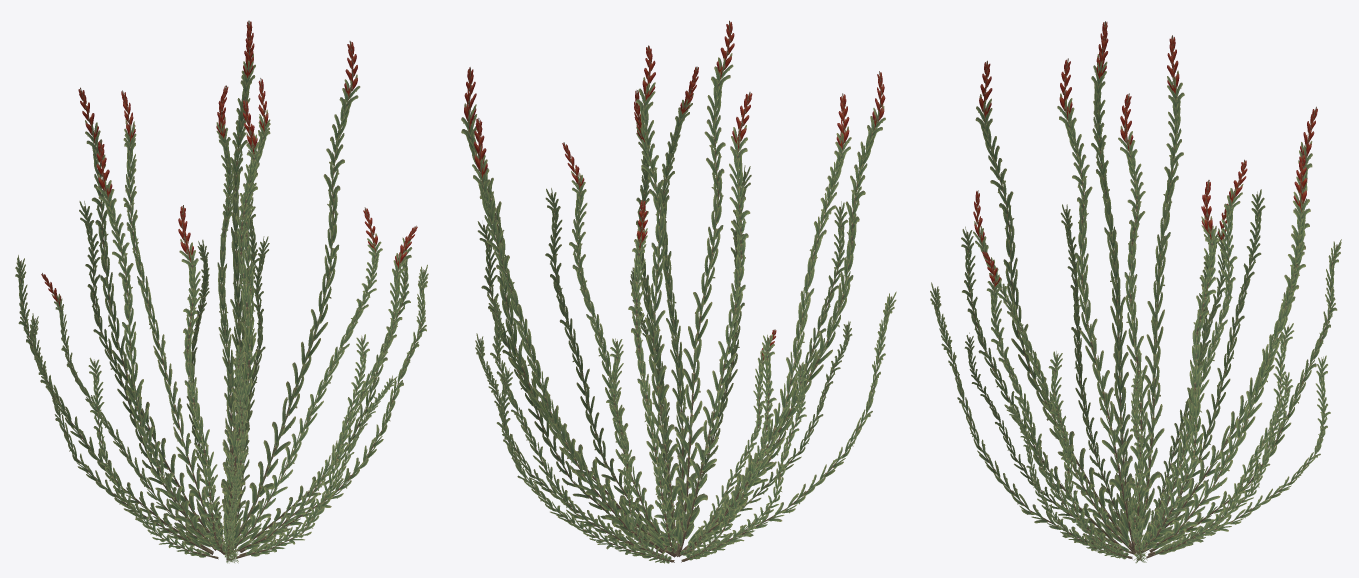
The model's file is scrub1.glb.
3 views of the same model, side by side, from view 1: azimuth 30°, elevation 25°; view 2: azimuth 150°, elevation 25°; view 3: azimuth 270°, elevation 25° (orthographic). The views are drawn at different scales.
Parts seen in each view (by area): view 1: ocotillo branch 01_5_ocotillo branch 01_5Mat_0.084; view 2: ocotillo branch 01_5_ocotillo branch 01_5Mat_0.084; view 3: ocotillo branch 01_5_ocotillo branch 01_5Mat_0.084.
Part boxes in pixels (x1=…): ocotillo branch 01_5_ocotillo branch 01_5Mat_0.084: x1=15, y1=20, x2=428, y2=563; ocotillo branch 01_5_ocotillo branch 01_5Mat_0.084: x1=461, y1=20, x2=896, y2=563; ocotillo branch 01_5_ocotillo branch 01_5Mat_0.084: x1=930, y1=21, x2=1341, y2=563.
Bounding box in the file's own units: 24.79 × 32.17 × 24.47.
Materials: 2 (2 with a texture image).
